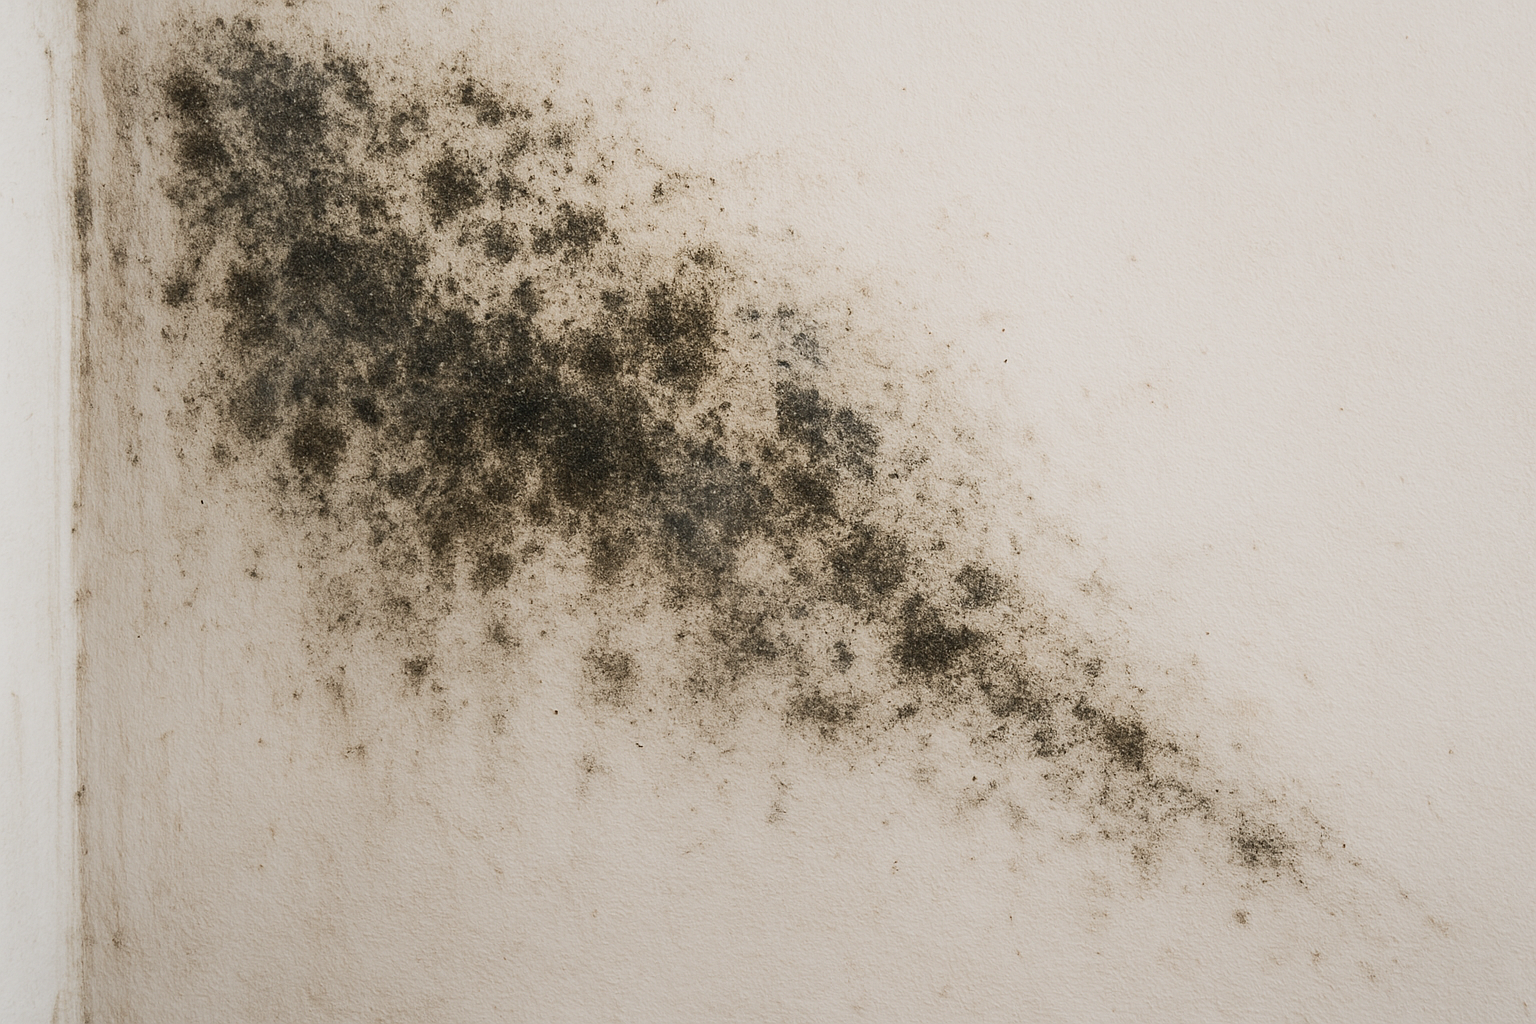schimmel: (170, 19, 418, 464), (429, 283, 646, 578), (653, 413, 960, 563), (886, 571, 1111, 691), (423, 120, 602, 269)
